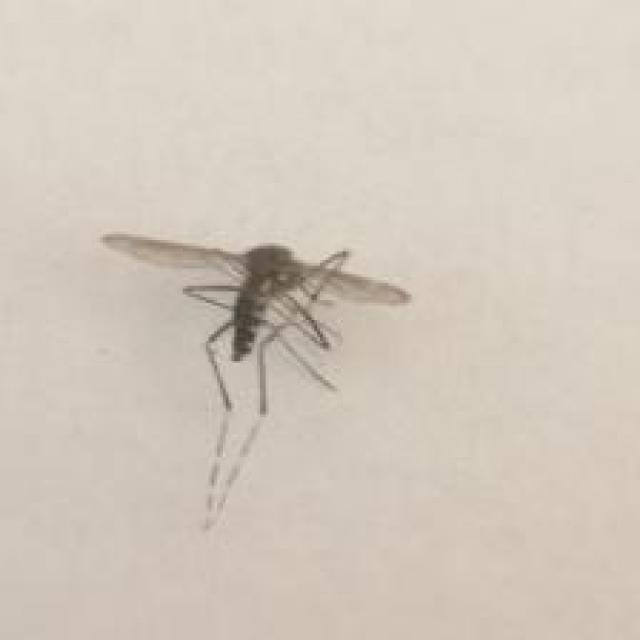Aedes albopictus: (100, 228, 411, 532)
